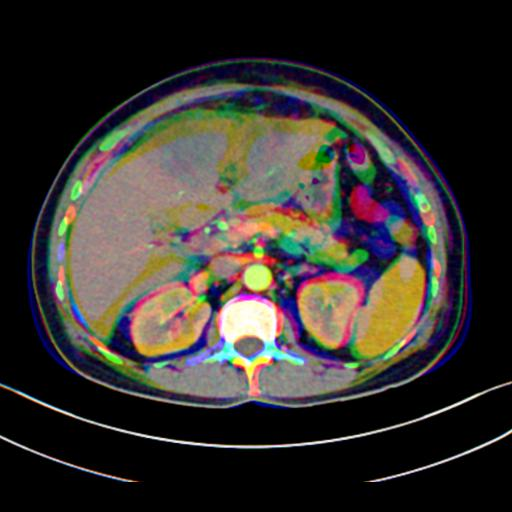Abscess: (143, 132, 297, 197)
